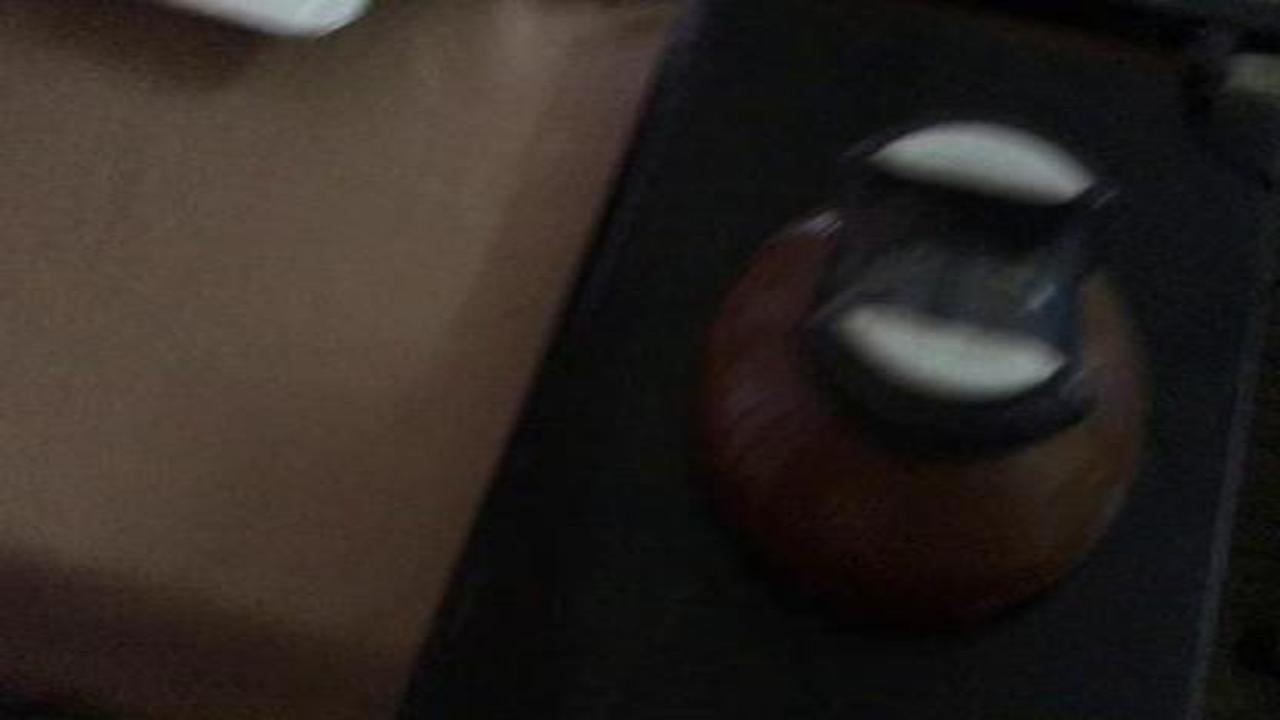insulator_pin: (677, 97, 1188, 639)
